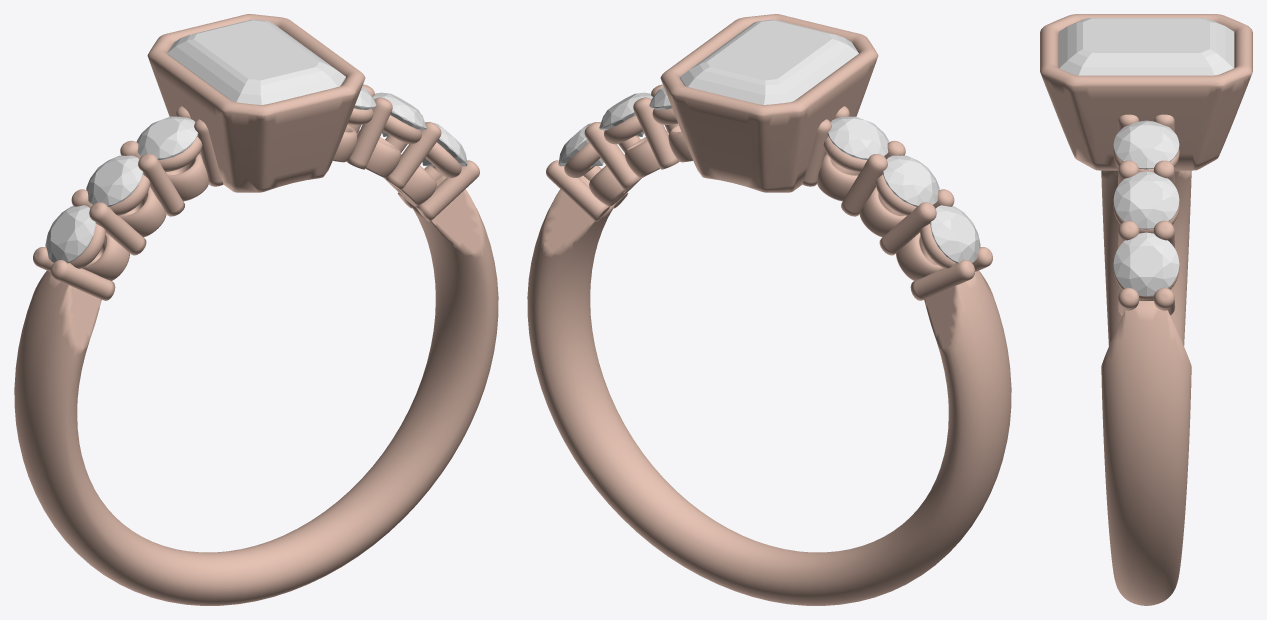
File: diamond-emerald-rosegold-bezelset-taperedband-7stone.glb
3 views of the same model, side by side, from view 1: azimuth 30°, elevation 25°; view 2: azimuth 150°, elevation 25°; view 3: azimuth 270°, elevation 25° (orthographic).
Visible parts, largest first — view 1: metal.002, stone.001, side.006, side.007, side.008, side.010, side.011; view 2: metal.002, stone.001, side.006, side.007, side.008, side.010, side.011; view 3: metal.002, stone.001, side.011, side.010, side.009.
Boxes of the visible parts, box(x1,y1,x2,y2) form: metal.002: box(14, 14, 498, 605); stone.001: box(167, 19, 345, 104); side.006: box(45, 205, 95, 263); side.007: box(86, 155, 143, 206); side.008: box(136, 116, 198, 159); side.010: box(373, 92, 426, 136); side.011: box(422, 122, 467, 166); metal.002: box(527, 14, 1011, 605); stone.001: box(680, 19, 858, 104); side.006: box(930, 205, 980, 263); side.007: box(882, 155, 939, 206); side.008: box(827, 116, 889, 159); side.010: box(599, 92, 652, 136); side.011: box(558, 122, 603, 166); metal.002: box(1040, 14, 1252, 605); stone.001: box(1058, 18, 1234, 75); side.011: box(1113, 232, 1179, 296); side.010: box(1113, 171, 1179, 229); side.009: box(1113, 120, 1179, 169).
Bounding box in the file's own units: 20.49 × 22.94 × 8.11.
